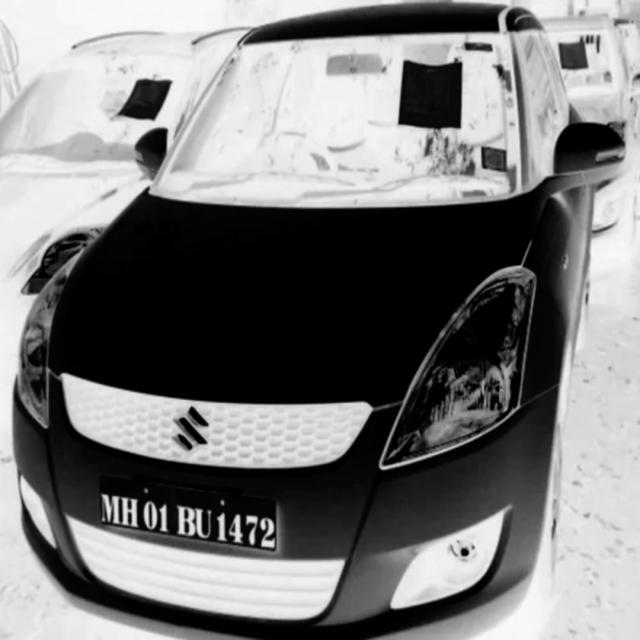Non_registered: (97, 476, 276, 552)
